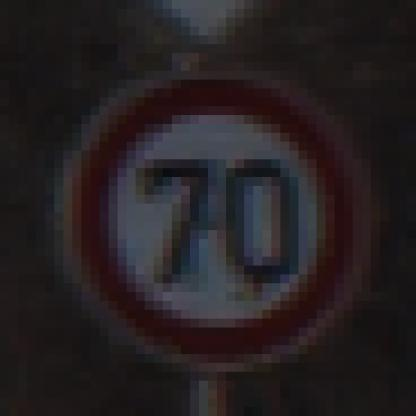Speed Limit 70: (69, 70, 354, 366)
